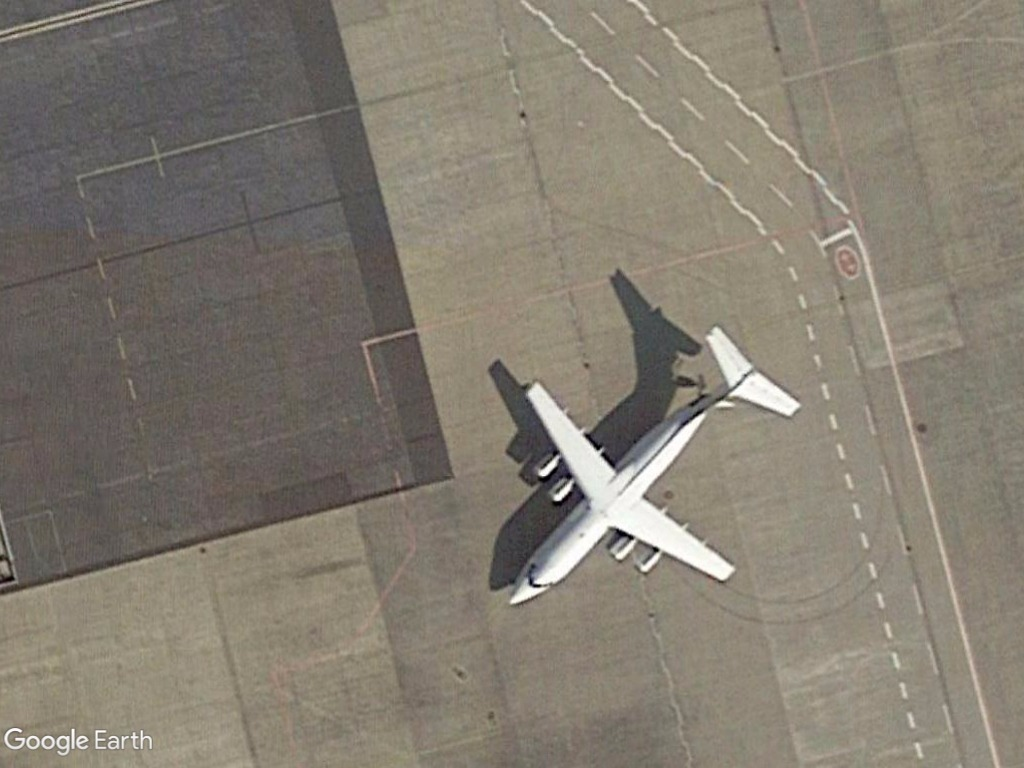airliner: (491, 319, 813, 624)
